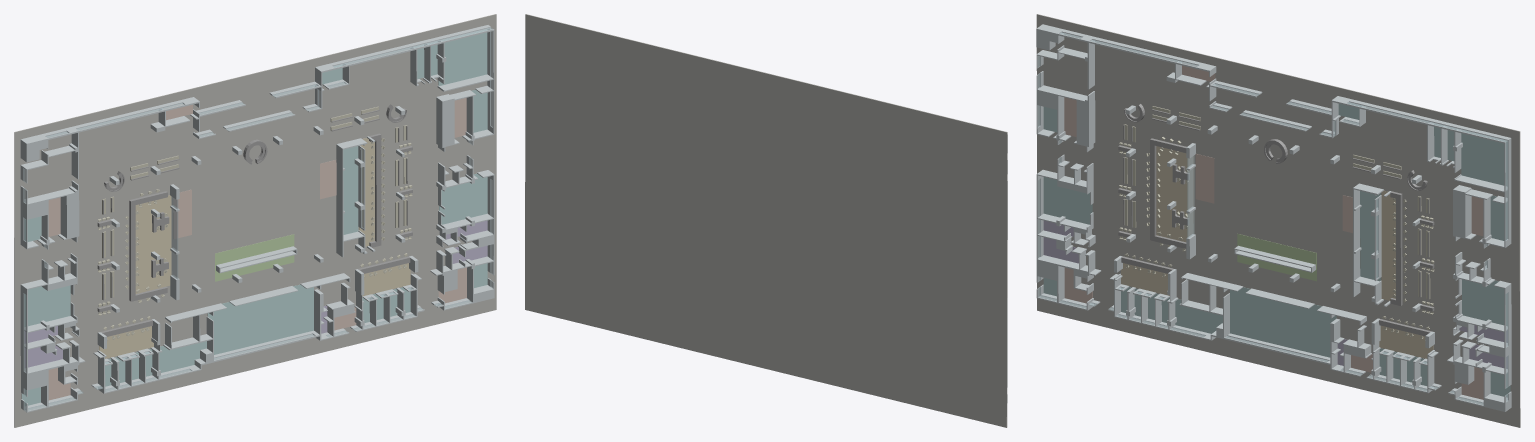
3 renders of one model, left to right at view 1: azimuth 30°, elevation 25°; view 2: azimuth 150°, elevation 25°; view 3: azimuth 330°, elevation 25°, orthographic.
Parts seen in each view (by area): view 1: 1_Floor, 1_wall, 1_others, 1_glass; view 2: 1_Floor; view 3: 1_Floor, 1_wall, 1_others, 1_glass.
Part boxes in pixels (<box>): 1_Floor: <box>14,14,496,427</box>; 1_wall: <box>20,25,494,412</box>; 1_others: <box>97,104,412,340</box>; 1_glass: <box>23,27,493,411</box>; 1_Floor: <box>525,14,1007,427</box>; 1_Floor: <box>1036,14,1520,427</box>; 1_wall: <box>1036,24,1511,411</box>; 1_others: <box>1118,104,1434,340</box>; 1_glass: <box>1037,32,1508,404</box>.
Bounding box in the file's own units: 195 × 115 × 4.72.
